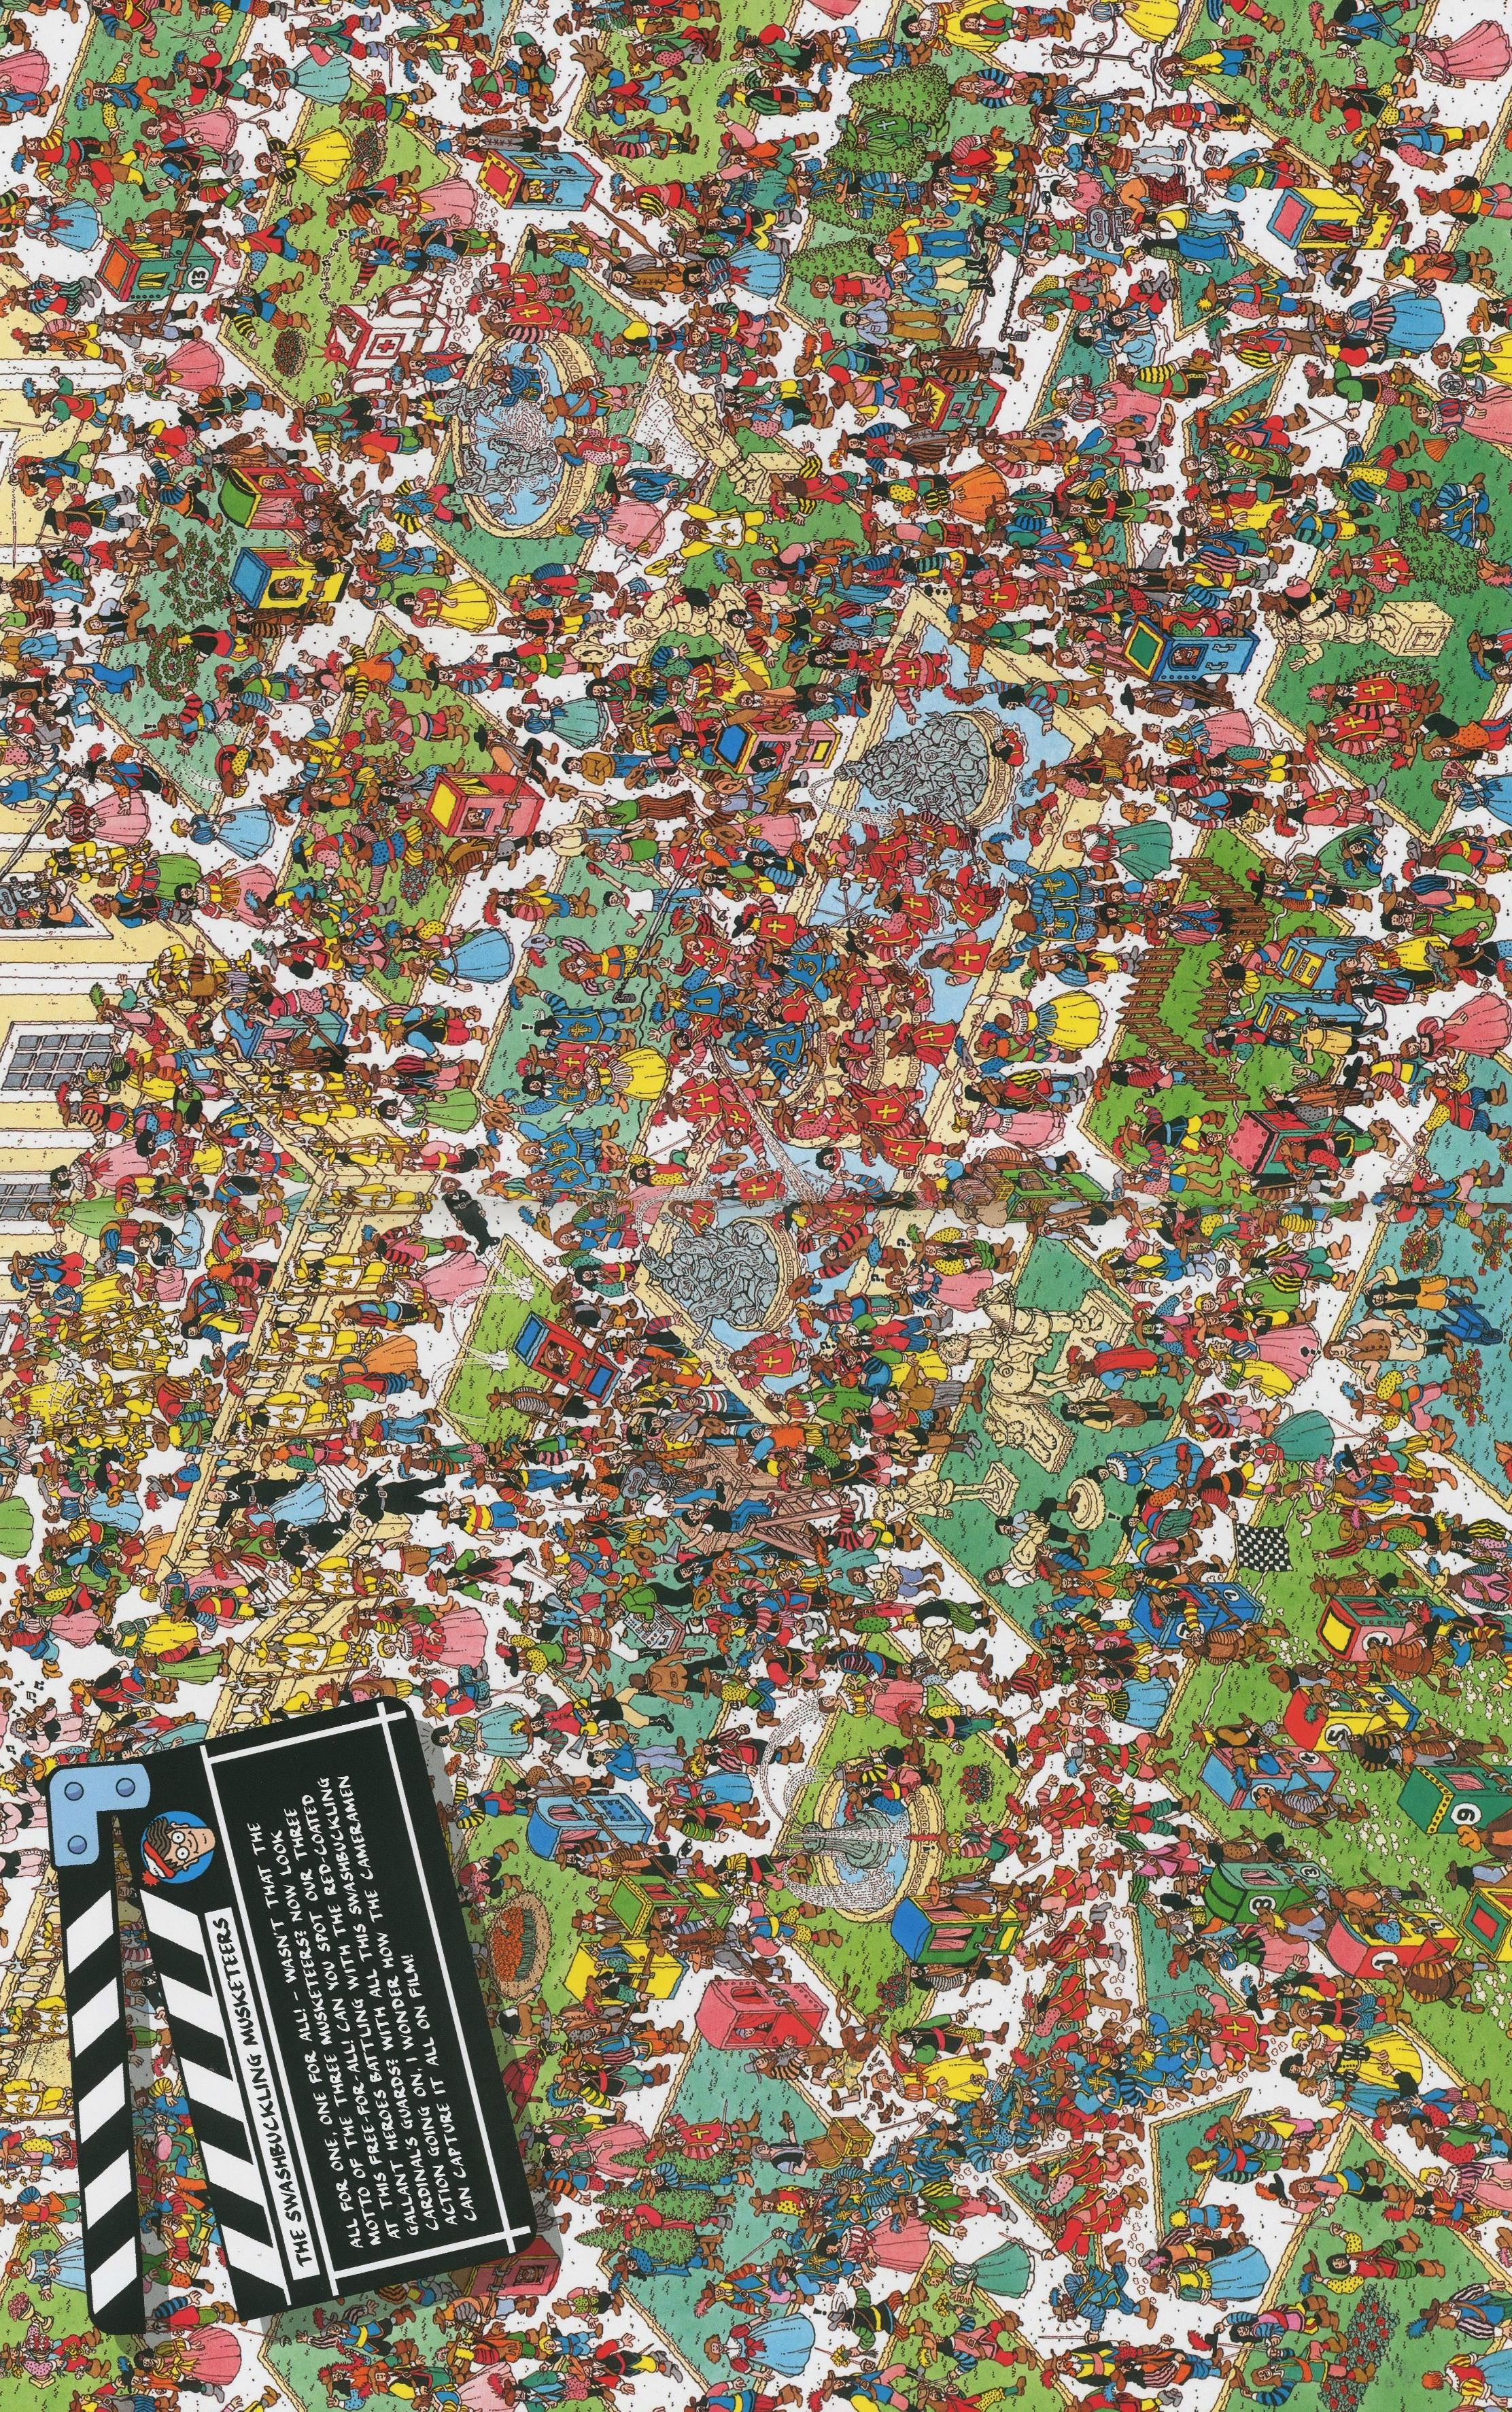waldos: (1195, 1129, 1235, 1155)
